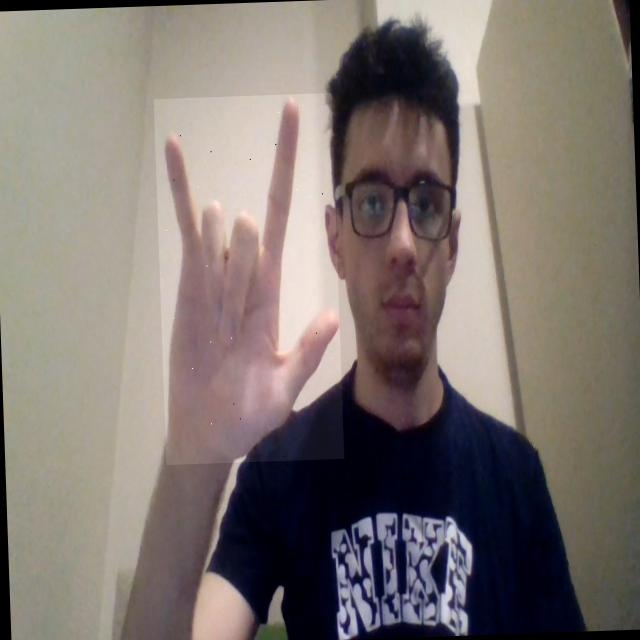iloveyou: (153, 92, 344, 464)
